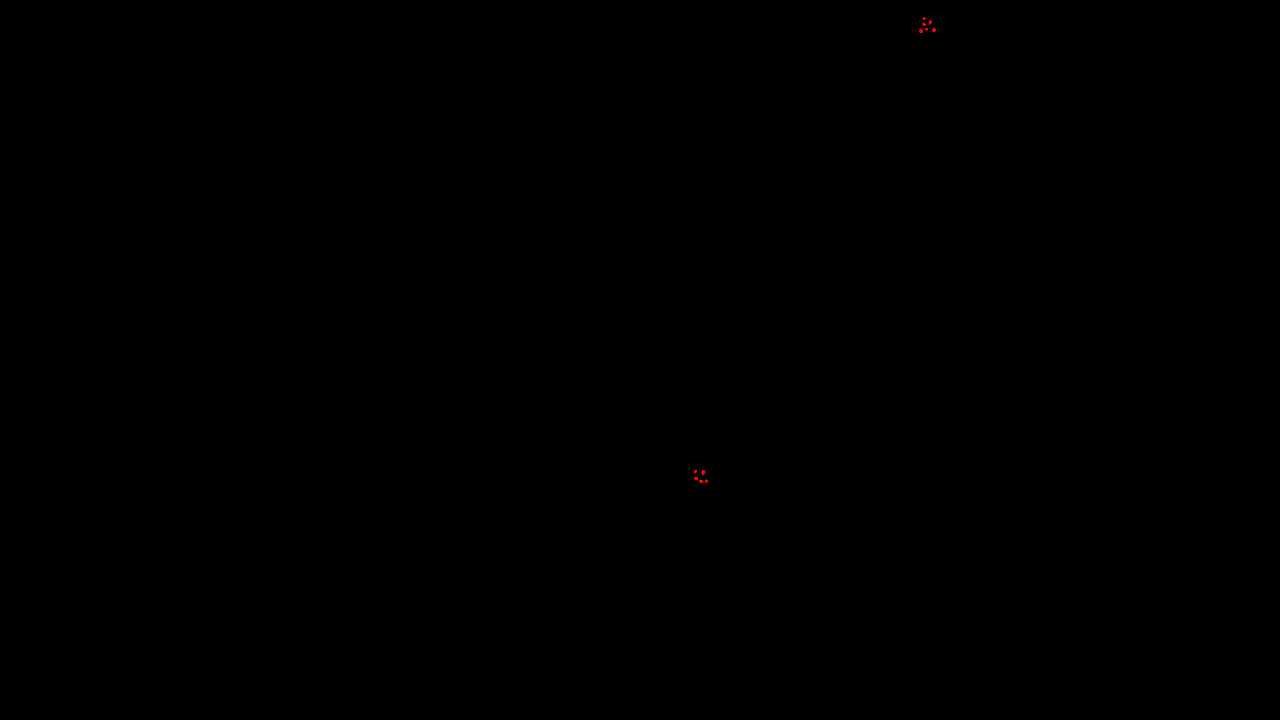Target: (701, 470, 705, 475), (932, 28, 936, 32), (919, 29, 923, 33), (929, 20, 932, 25), (922, 23, 926, 26), (694, 477, 698, 480), (705, 479, 708, 483), (699, 480, 703, 483), (923, 17, 926, 20), (925, 28, 928, 31), (694, 470, 697, 473)
